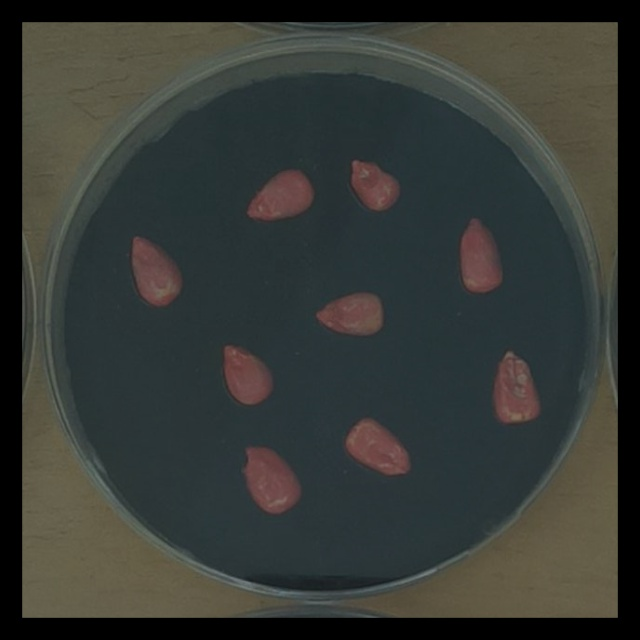Zea mays: (234, 437, 308, 521), (121, 226, 190, 314), (337, 411, 418, 485), (239, 159, 322, 229), (485, 342, 547, 430), (452, 211, 508, 299), (213, 337, 279, 411), (309, 284, 391, 343), (342, 151, 408, 221)
